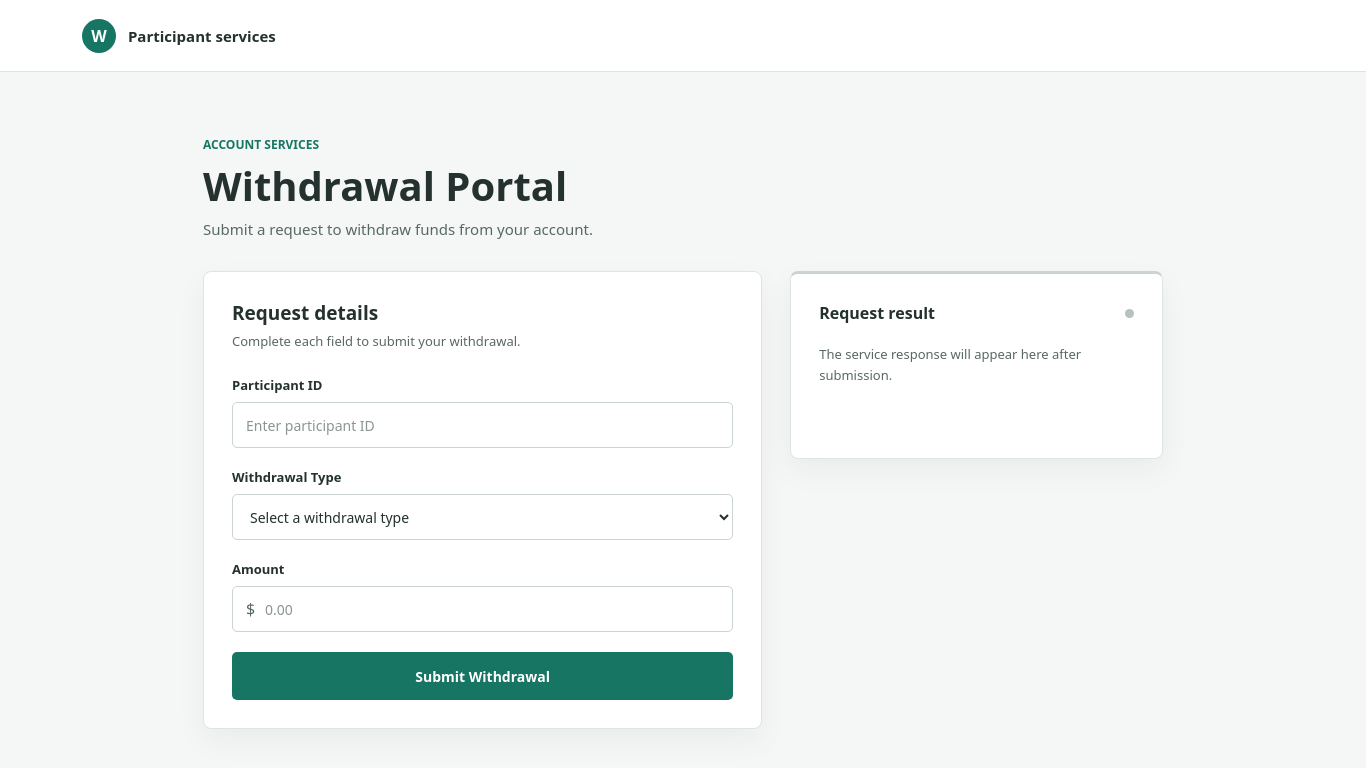
Test case: App › treats a non-success status on a 2xx response as an error
Type "P1001" into the field labelled "Participant ID". click: (483, 425)
box: [232,402,733,448]
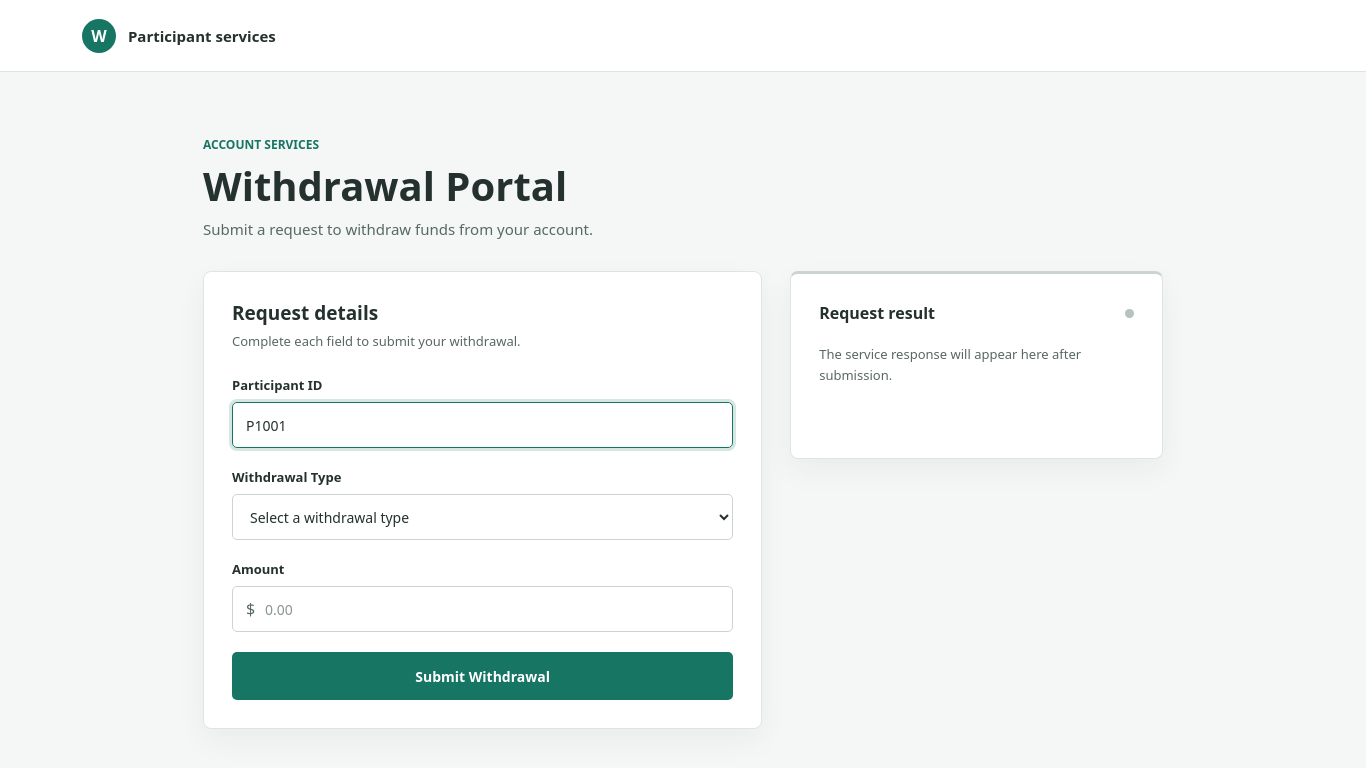
Select "PARTIAL" in the dropdown labelled "Withdrawal Type". click: (483, 517)
box: [232,494,733,540]
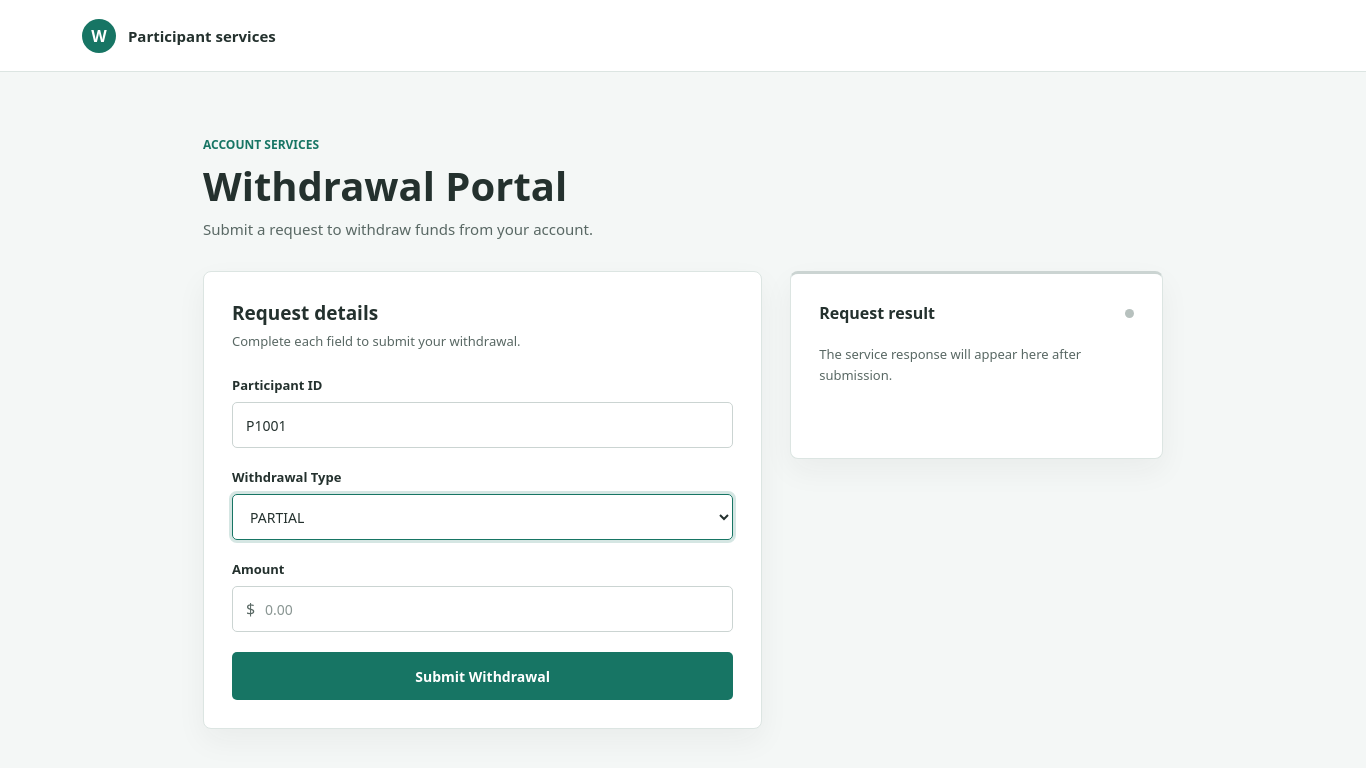
Type "50" into the number field labelled "Amount". click: (483, 609)
box: [232,586,733,632]
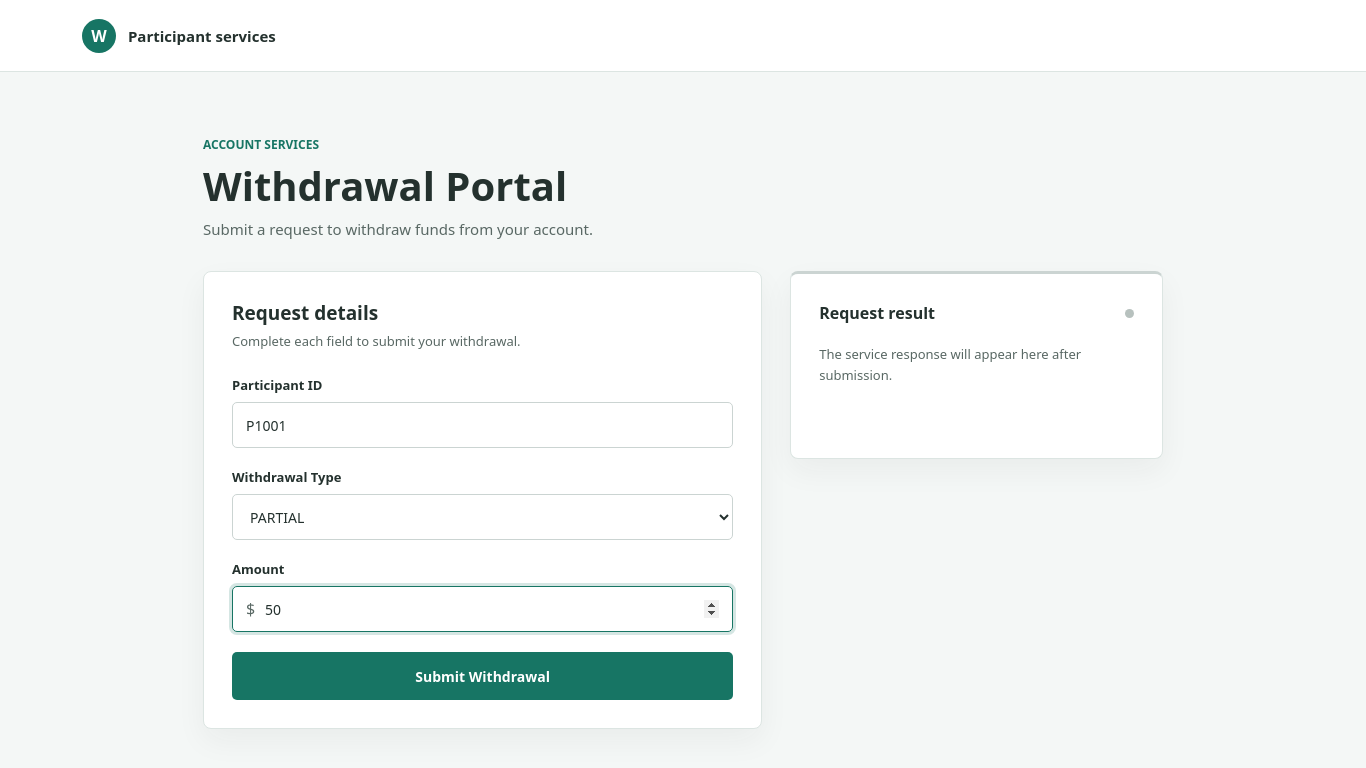
Click the button "Submit Withdrawal". click: (483, 676)
box: [232,652,733,700]
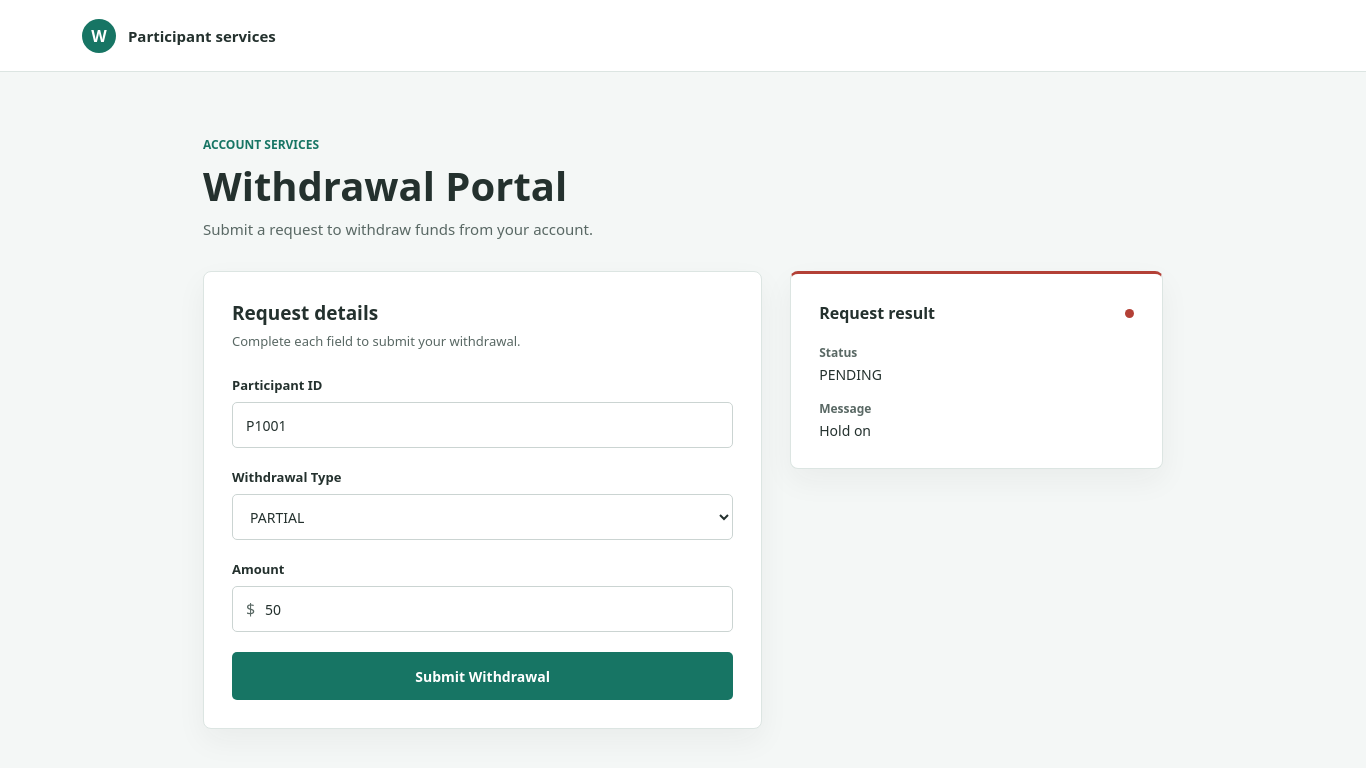
Expected: the text "Hold on" is shown, [819,421,871,440]
